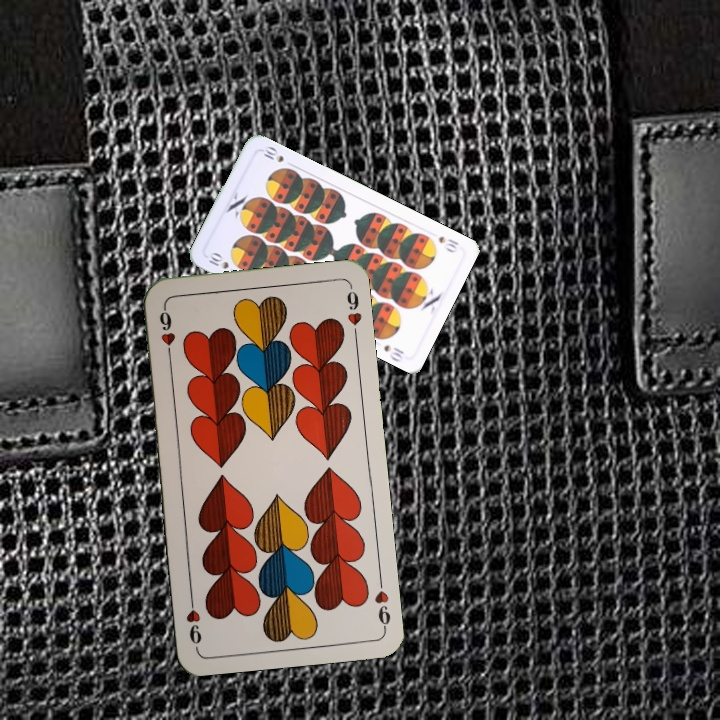H9: (155, 302, 178, 361), (371, 572, 393, 632)
S10: (205, 248, 241, 276), (435, 232, 461, 255)
